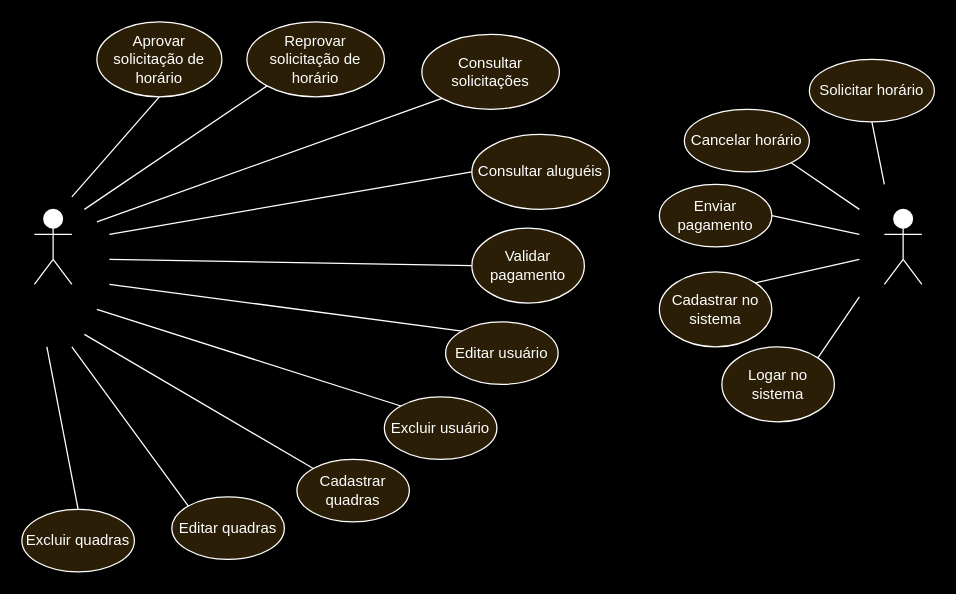
This 956x594 diagram has some shape labels left out. Each missing label, with the centre of its shape:
"Admin" goes at point (52, 246).
"Usuário" goes at point (902, 246).
